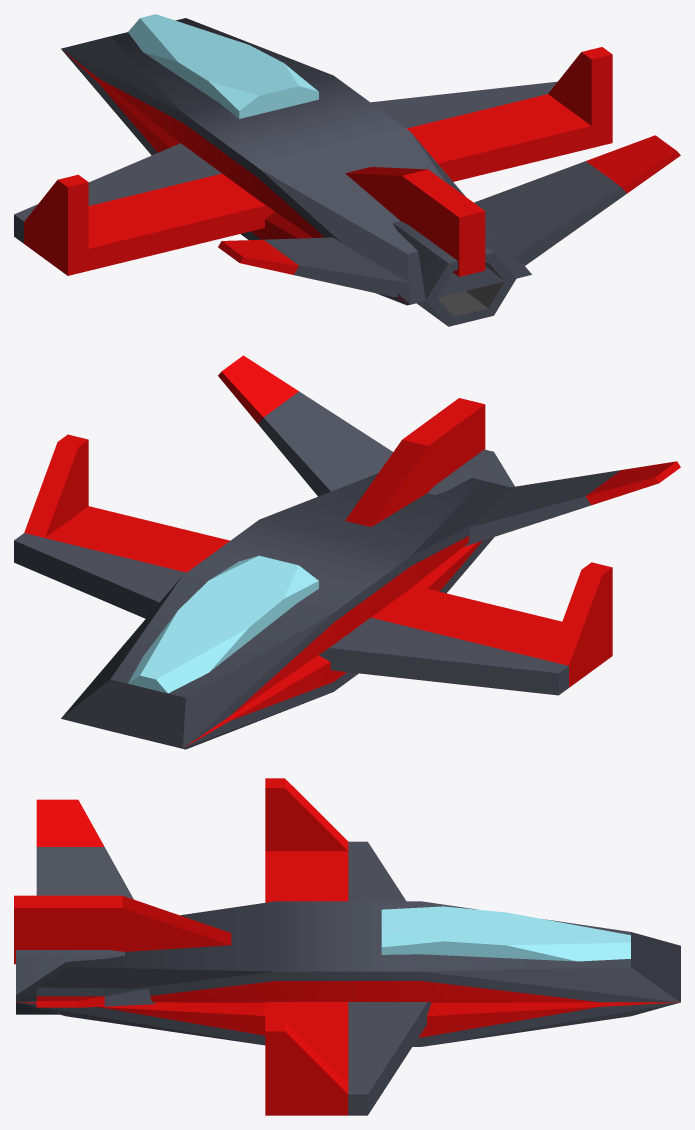
The model's file is Scout.obj.
The picture shows the model from 3 angles, top to bottom: view 1: azimuth 30°, elevation 25°; view 2: azimuth 150°, elevation 25°; view 3: azimuth 270°, elevation 25°; orthographic projection. The views are drawn at different scales.
Visible parts, largest first — view 1: ship_frontEdge_4, wing_endHigh_6, wing_endHigh_7, ship_frontEdge_0, wing_diagonalFin_12, glass_high_5, plane_rudder_13, wing_diagonalFin_11, engine_rocket%_14, ship_frontEdge_1, ship_frontEdge_3; view 2: wing_endHigh_6, ship_frontEdge_0, ship_frontEdge_4, wing_endHigh_7, glass_high_5, wing_diagonalFin_12, plane_rudder_13, wing_diagonalFin_11, ship_frontEdge_1, engine_rocket%_14, ship_frontEdge_3; view 3: ship_frontEdge_4, ship_frontEdge_0, wing_endHigh_7, wing_endHigh_6, glass_high_5, plane_rudder_13, wing_diagonalFin_11, ship_frontEdge_1, ship_frontEdge_3, engine_rocket%_14, wing_diagonalFin_12.
Boxes of the visible parts, x1=… form: ship_frontEdge_4: x1=221, y1=104, x2=531, y2=304; wing_endHigh_6: x1=14, y1=143, x2=274, y2=275; wing_endHigh_7: x1=371, y1=47, x2=612, y2=181; ship_frontEdge_0: x1=61, y1=18, x2=371, y2=172; wing_diagonalFin_12: x1=474, y1=135, x2=680, y2=265; glass_high_5: x1=128, y1=14, x2=318, y2=118; plane_rudder_13: x1=345, y1=167, x2=485, y2=276; wing_diagonalFin_11: x1=218, y1=237, x2=409, y2=297; engine_rocket%_14: x1=393, y1=221, x2=516, y2=326; ship_frontEdge_1: x1=61, y1=49, x2=180, y2=155; ship_frontEdge_3: x1=241, y1=212, x2=484, y2=305; wing_endHigh_6: x1=319, y1=562, x2=612, y2=695; ship_frontEdge_0: x1=61, y1=548, x2=372, y2=748; ship_frontEdge_4: x1=221, y1=473, x2=510, y2=615; wing_endHigh_7: x1=14, y1=434, x2=229, y2=618; glass_high_5: x1=128, y1=555, x2=318, y2=693; wing_diagonalFin_12: x1=218, y1=355, x2=392, y2=496; plane_rudder_13: x1=345, y1=398, x2=485, y2=526; wing_diagonalFin_11: x1=464, y1=461, x2=680, y2=546; ship_frontEdge_1: x1=85, y1=655, x2=358, y2=749; engine_rocket%_14: x1=427, y1=449, x2=514, y2=495; ship_frontEdge_3: x1=414, y1=537, x2=494, y2=593; ship_frontEdge_4: x1=16, y1=901, x2=348, y2=1002; ship_frontEdge_0: x1=348, y1=901, x2=680, y2=1002; wing_endHigh_7: x1=265, y1=1002, x2=431, y2=1115; wing_endHigh_6: x1=265, y1=778, x2=405, y2=902; glass_high_5: x1=381, y1=906, x2=630, y2=961; plane_rudder_13: x1=14, y1=895, x2=231, y2=964; wing_diagonalFin_11: x1=36, y1=799, x2=133, y2=899; ship_frontEdge_1: x1=412, y1=1002, x2=680, y2=1046; ship_frontEdge_3: x1=16, y1=1002, x2=265, y2=1045; engine_rocket%_14: x1=16, y1=950, x2=124, y2=1014; wing_diagonalFin_12: x1=36, y1=987, x2=155, y2=1007.
Bounding box in the file's own units: 3.6 × 0.7397 × 4.01.
